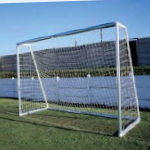goals: (13, 19, 142, 138)
